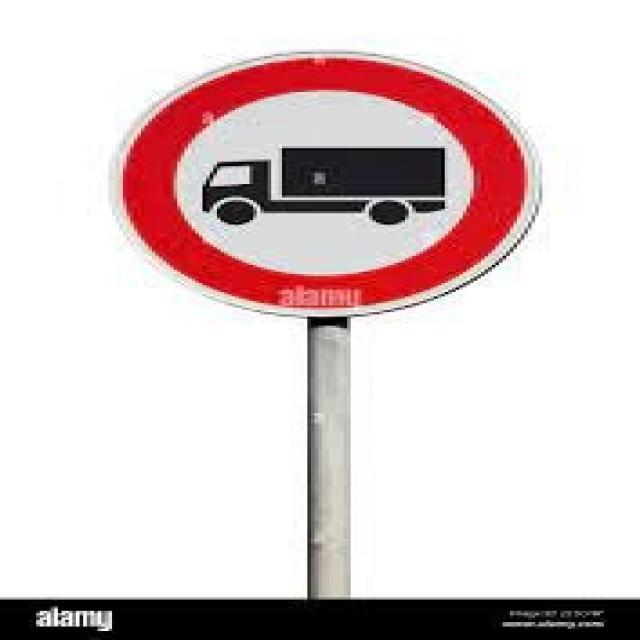do_not_enter: (92, 29, 563, 332)
